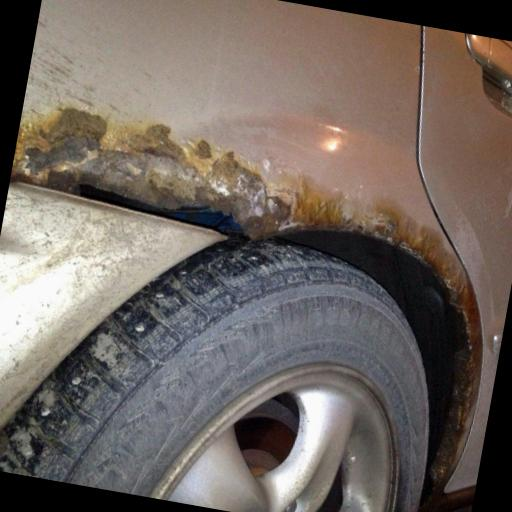segmentation: (291, 178, 482, 512), (11, 107, 319, 238)
